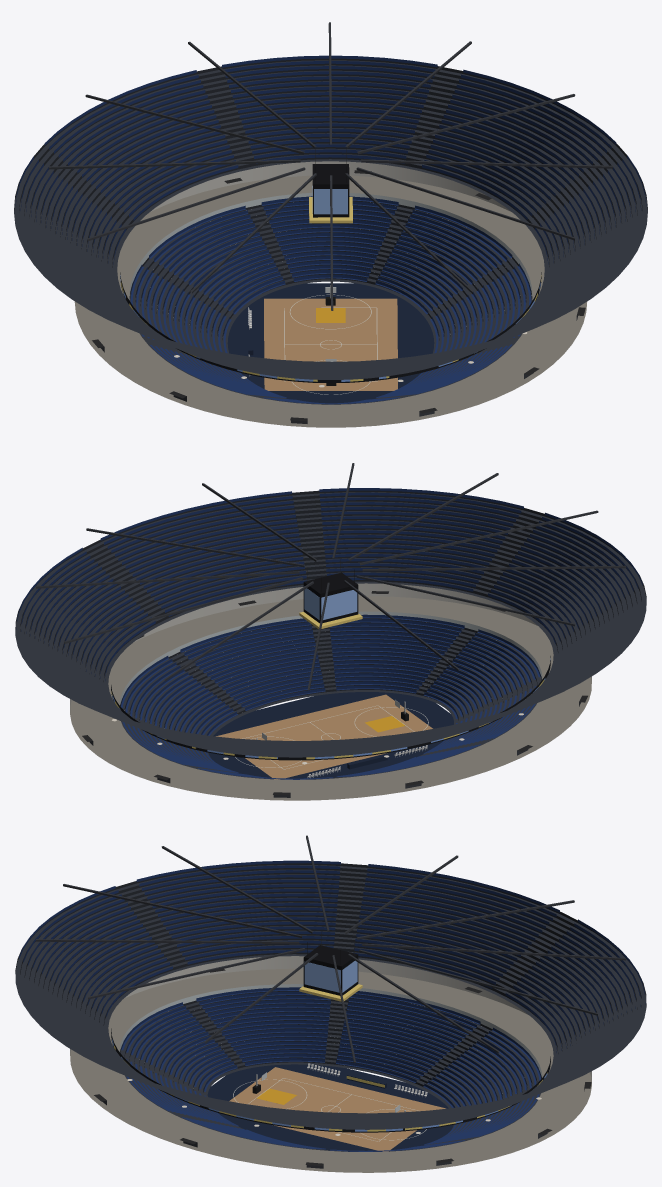
The model's file is chase_int.glb.
The picture shows the model from 3 angles, top to bottom: view 1: azimuth 30°, elevation 25°; view 2: azimuth 150°, elevation 25°; view 3: azimuth 270°, elevation 25°; orthographic projection. The views are drawn at different scales.
Visible parts, largest first — view 1: I_paint, I_d_x_velvet, I_x_terrazzo, I_x_carpet_blue, I_x_wood_floor, I_metal, I_x_plaster, I_glassI, I_screen; view 2: I_paint, I_d_x_velvet, I_x_terrazzo, I_x_carpet_blue, I_metal, I_x_wood_floor, I_x_plaster, I_screen, I_glassI; view 3: I_paint, I_d_x_velvet, I_x_terrazzo, I_x_carpet_blue, I_metal, I_x_wood_floor, I_x_plaster, I_screen, I_glassI.
Boxes of the visible parts, x1=… form: I_paint: x1=14, y1=58, x2=647, y2=423; I_d_x_velvet: x1=15, y1=55, x2=646, y2=404; I_x_terrazzo: x1=74, y1=175, x2=586, y2=427; I_x_carpet_blue: x1=129, y1=204, x2=532, y2=404; I_x_wood_floor: x1=264, y1=298, x2=397, y2=390; I_metal: x1=49, y1=22, x2=612, y2=310; I_x_plaster: x1=150, y1=161, x2=510, y2=211; I_glassI: x1=129, y1=192, x2=532, y2=361; I_screen: x1=120, y1=186, x2=541, y2=381; I_paint: x1=15, y1=490, x2=646, y2=797; I_d_x_velvet: x1=16, y1=488, x2=642, y2=779; I_x_terrazzo: x1=70, y1=596, x2=591, y2=800; I_x_carpet_blue: x1=120, y1=624, x2=541, y2=779; I_metal: x1=36, y1=463, x2=626, y2=739; I_x_wood_floor: x1=216, y1=694, x2=432, y2=779; I_x_plaster: x1=70, y1=583, x2=591, y2=712; I_screen: x1=111, y1=588, x2=550, y2=759; I_glassI: x1=119, y1=611, x2=542, y2=740; I_paint: x1=15, y1=863, x2=646, y2=1168; I_d_x_velvet: x1=19, y1=860, x2=645, y2=1151; I_x_terrazzo: x1=70, y1=968, x2=591, y2=1172; I_x_carpet_blue: x1=120, y1=996, x2=540, y2=1151; I_metal: x1=36, y1=835, x2=625, y2=1112; I_x_wood_floor: x1=229, y1=1067, x2=445, y2=1151; I_x_plaster: x1=70, y1=956, x2=591, y2=1085; I_screen: x1=112, y1=960, x2=547, y2=1131; I_glassI: x1=119, y1=984, x2=542, y2=1112.
Bounding box in the file's own units: 108 × 34.01 × 116.
